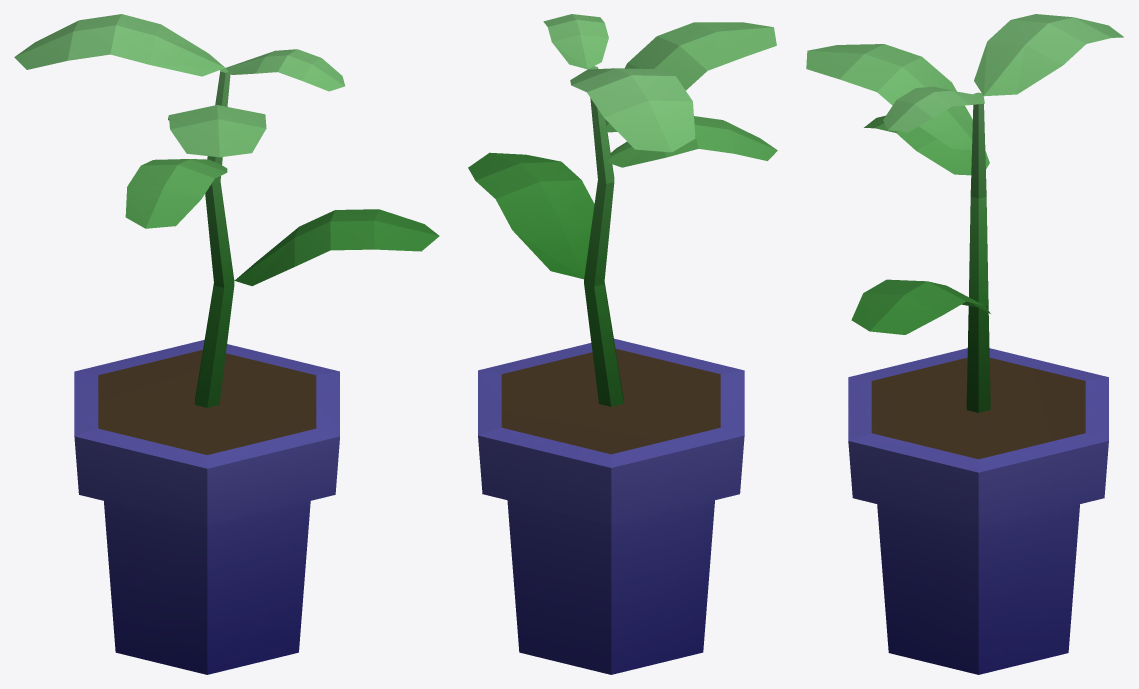
File: pianta_2.fbx
3 renders of one model, left to right at view 1: azimuth 30°, elevation 25°; view 2: azimuth 150°, elevation 25°; view 3: azimuth 270°, elevation 25°, orthographic. The views are drawn at different scales.
Parts seen in each view (by area): view 1: pCylinder7; view 2: pCylinder7; view 3: pCylinder7.
Boxes of the visible parts, x1,y1,x2,y2 form: pCylinder7: (14, 14, 439, 674); pCylinder7: (468, 14, 777, 674); pCylinder7: (806, 14, 1123, 674).
Bounding box in the file's own units: 129 × 233 × 116.
